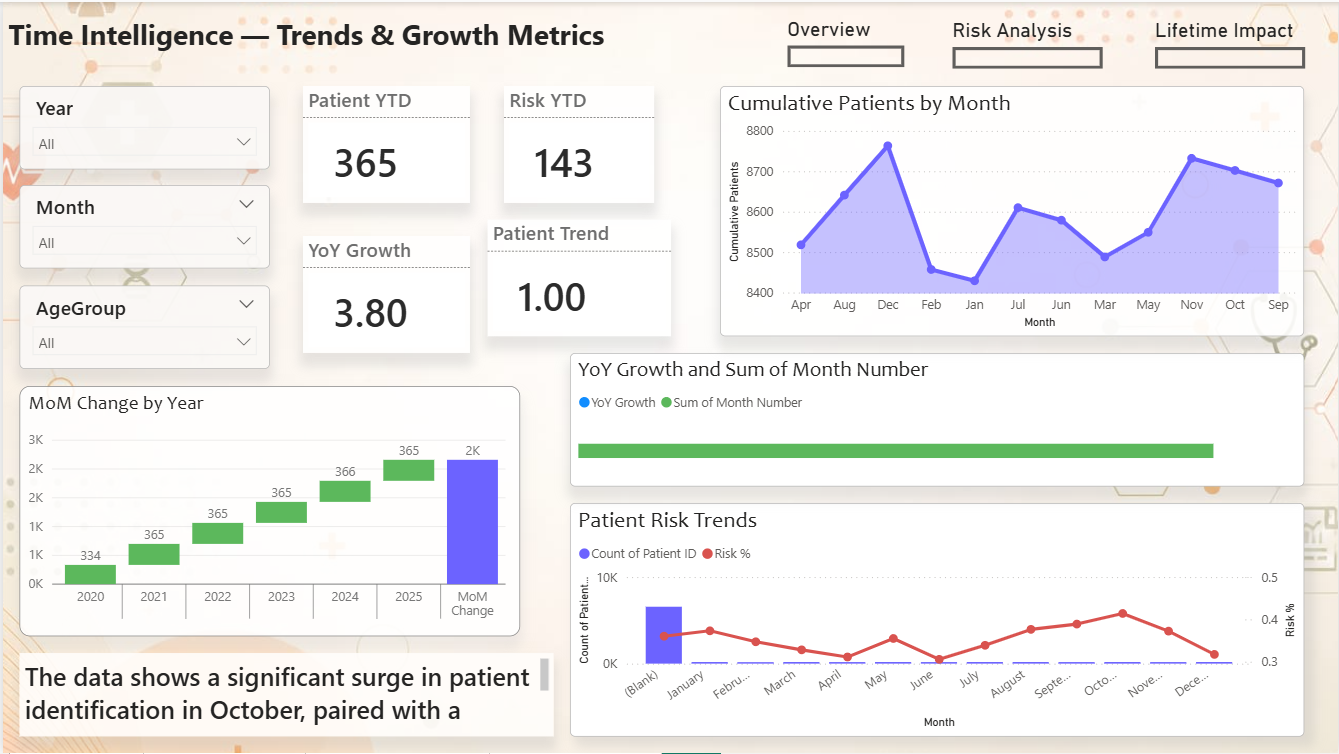

Layout of this report page (visuals, bound fields, positions):
{"tool":"powerbi","page":{"name":"Time Analysis","canvas":[1280,720],"ordinal":3},"visuals":[{"type":"slicer","fields":{"Values":["Dim_Date.Year"]},"box":[16,80,240,80],"z":0},{"type":"slicer","fields":{"Values":["Dim_Date.Month"]},"box":[16,176,240,80],"z":1000},{"type":"slicer","fields":{"Values":["dim_patient.AgeGroup"]},"box":[16,272,240,80],"z":2000},{"type":"cardVisual","title":"Patient YTD","fields":{"Data":["Dim_Date.Patients YTD"]},"box":[288,80,160,112],"z":3000},{"type":"cardVisual","title":"Risk YTD","fields":{"Data":["Dim_Date.Risk YTD"]},"box":[480,80,144,112],"z":4000},{"type":"cardVisual","title":"YoY Growth","fields":{"Data":["Dim_Date.YoY Growth"]},"box":[288,224,160,112],"z":5000},{"type":"cardVisual","title":"Patient Trend","fields":{"Data":["Dim_Date.Rolling Avg Patients"]},"box":[464,208,176,112],"z":6000},{"type":"lineClusteredColumnComboChart","title":"Patient Risk Trends","fields":{"Category":["Dim_Date.Date.Variation.Date Hierarchy.Month"],"Y2":["fact_heart_attack.Risk %"],"Y":["CountNonNull(dim_location.Patient ID)"]},"box":[544,480,704,224],"z":7000},{"type":"barChart","fields":{"Y":["Dim_Date.YoY Growth","Sum(Dim_Date.Month Number)"]},"box":[544,336,704,128],"z":8000},{"type":"areaChart","fields":{"Y":["Dim_Date.Cumulative Patients"],"Category":["Dim_Date.Month"]},"box":[688,80,560,240],"z":9000},{"type":"SimpleWaterfall","fields":{"measure":["Dim_Date.MoM Change"],"category":["Dim_Date.Date.Variation.Date Hierarchy.Year","Dim_Date.Date.Variation.Date Hierarchy.Quarter","Dim_Date.Date.Variation.Date Hierarchy.Month","Dim_Date.Date.Variation.Date Hierarchy.Day"]},"box":[16,368,480,240],"z":10000},{"type":"textbox","box":[0,6.5,592.3,65.1],"z":11000},{"type":"textbox","box":[16,624,512,80],"z":12000},{"type":"actionButton","title":"Overview","box":[752,14.5,112,48],"z":13000},{"type":"actionButton","title":"Risk Analysis","box":[910.4,16,144,48],"z":14000},{"type":"actionButton","title":"Lifetime Impact","box":[1104,16,144,48],"z":15000}]}

Visuals, with their boxes in screenshot pixels (x1, y1, x2, y2), scaled from the page's 1280x720 canvas onto the 1339x754 screenshot:
slicer - Dim_Date.Year: detection(17, 84, 268, 168)
slicer - Dim_Date.Month: detection(17, 184, 268, 268)
slicer - dim_patient.AgeGroup: detection(17, 285, 268, 369)
"Patient YTD" cardVisual: detection(301, 84, 469, 201)
"Risk YTD" cardVisual: detection(502, 84, 653, 201)
"YoY Growth" cardVisual: detection(301, 235, 469, 352)
"Patient Trend" cardVisual: detection(485, 218, 670, 335)
"Patient Risk Trends" lineClusteredColumnComboChart: detection(569, 503, 1306, 737)
barChart - Dim_Date.YoY Growth x Sum(Dim_Date.Month Number): detection(569, 352, 1306, 486)
areaChart - Dim_Date.Cumulative Patients x Dim_Date.Month: detection(720, 84, 1306, 335)
SimpleWaterfall - Dim_Date.MoM Change x Dim_Date.Date.Variation.Date Hierarchy.Year: detection(17, 385, 519, 637)
textbox: detection(0, 7, 620, 75)
textbox: detection(17, 653, 552, 737)
"Overview" actionButton: detection(787, 15, 904, 65)
"Risk Analysis" actionButton: detection(952, 17, 1103, 67)
"Lifetime Impact" actionButton: detection(1155, 17, 1306, 67)
